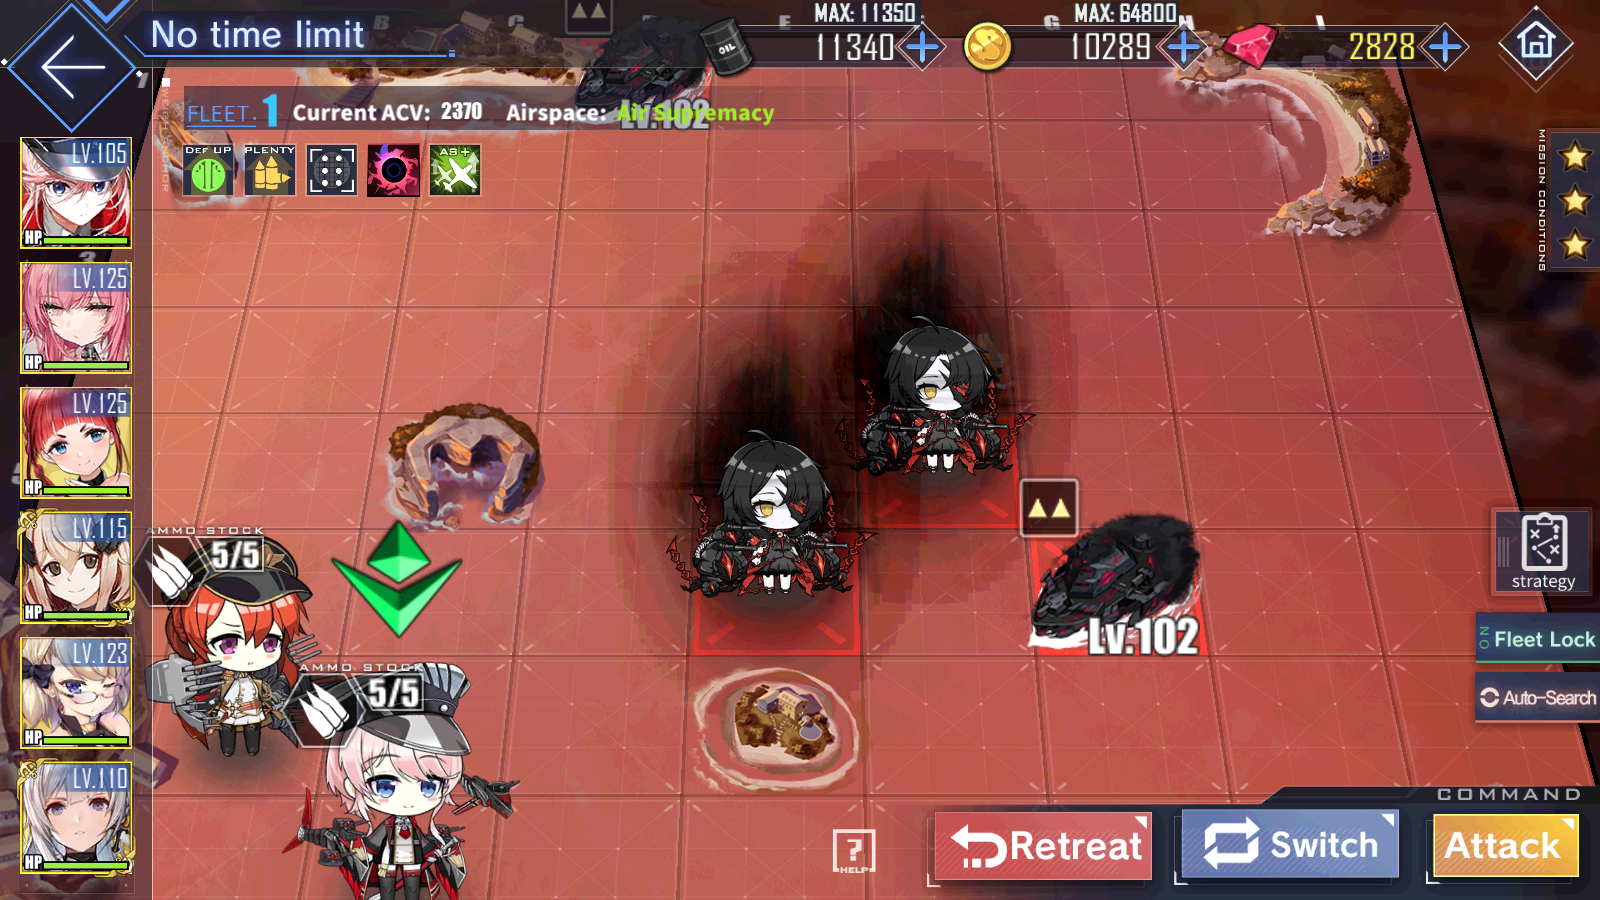ally: (288, 522, 515, 900), (134, 525, 321, 759)
elite: (696, 436, 860, 656), (856, 313, 1016, 527)
enemy: (1020, 478, 1204, 654)
